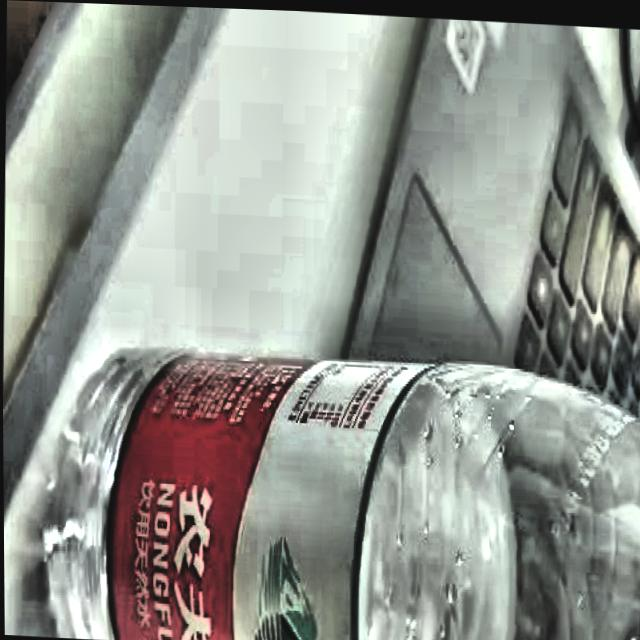plastic: (15, 321, 640, 640)
